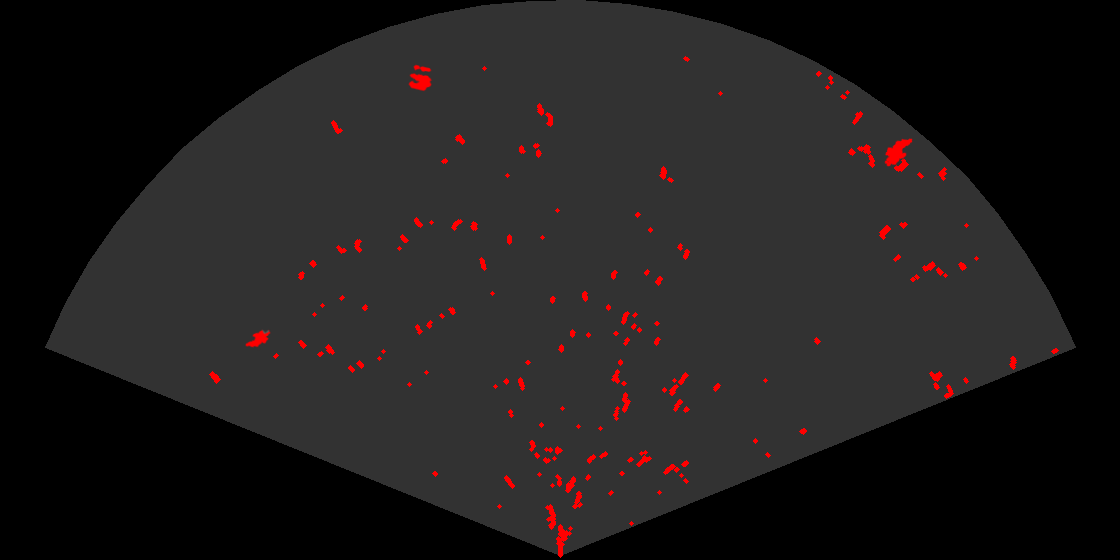AUV: (883, 137, 914, 168), (244, 328, 272, 351)
ball: (407, 63, 434, 93)
